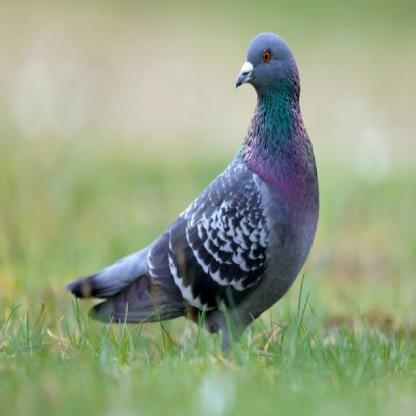Flying Rat: (81, 30, 335, 352)
